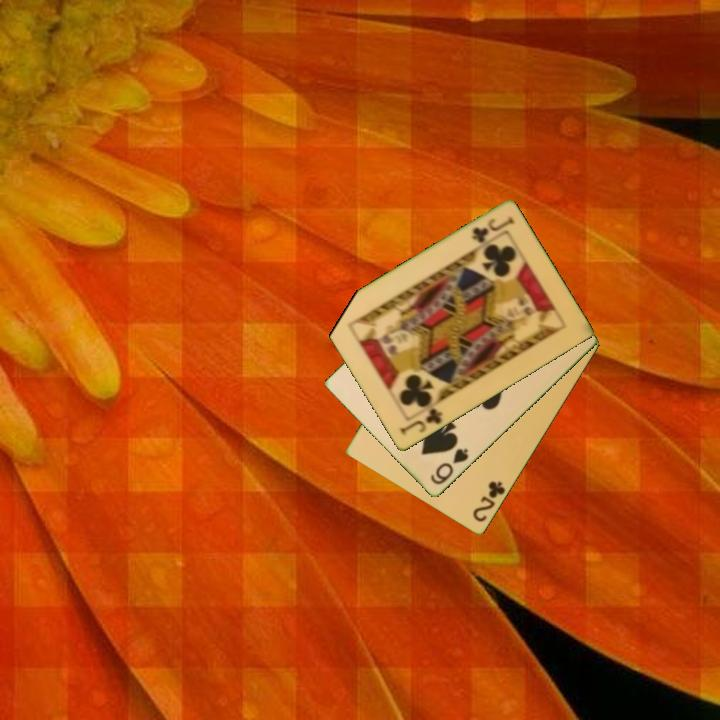2c: (469, 478, 508, 526)
6s: (427, 445, 472, 488)
Jc: (397, 405, 446, 438), (468, 213, 516, 246)
